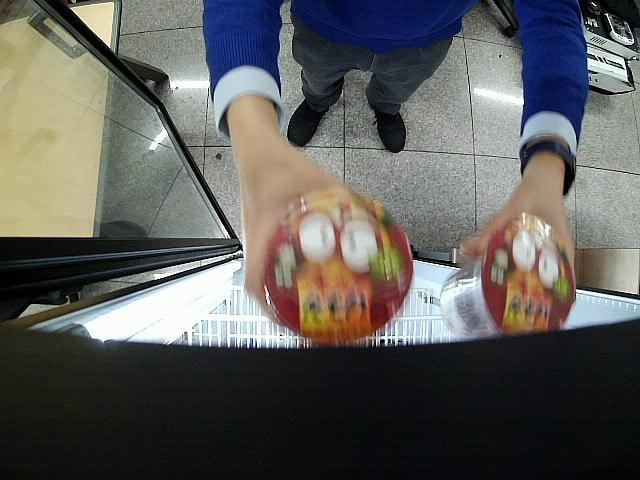06_nuguri_S: (263, 192, 412, 341), (442, 214, 576, 338)
